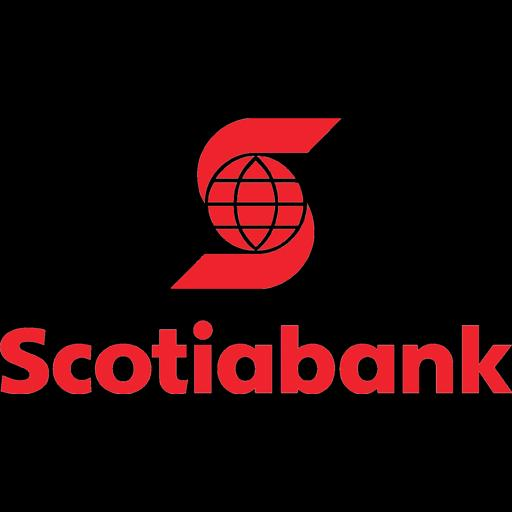Scotiabank: (0, 118, 512, 394)
